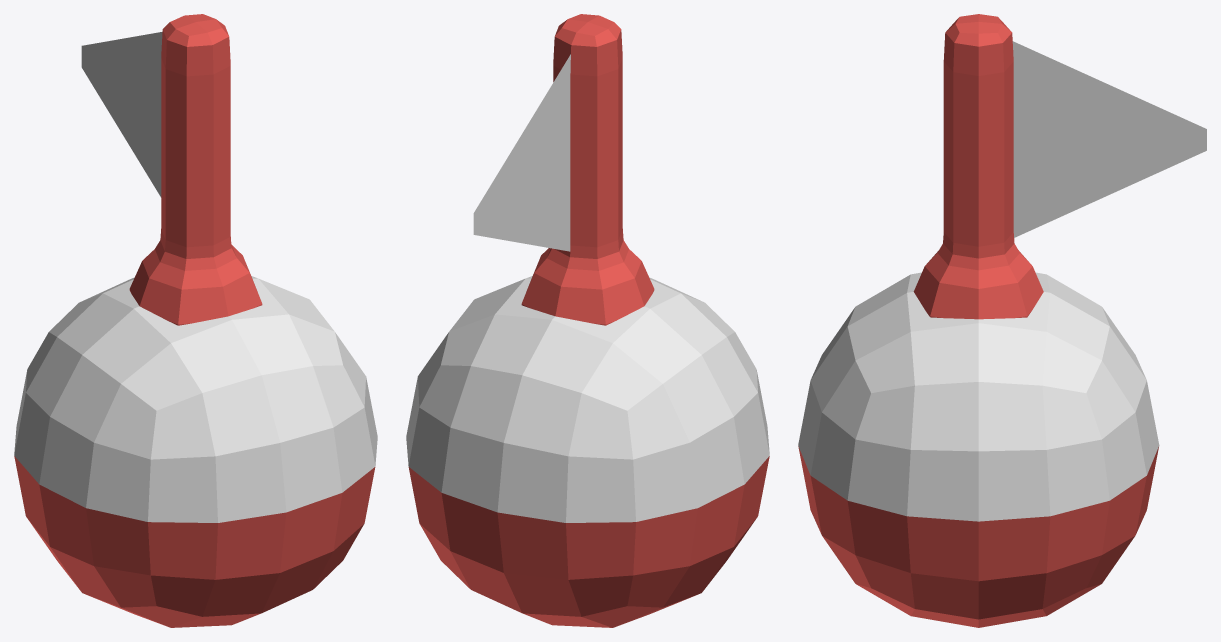
Rendered from thingy.fbx.
The picture shows the model from 3 angles, left to right: view 1: azimuth 30°, elevation 25°; view 2: azimuth 150°, elevation 25°; view 3: azimuth 270°, elevation 25°; orthographic projection.
Visible parts, largest first — view 1: Cube, Cube.001, Plane; view 2: Cube, Cube.001, Plane; view 3: Cube, Cube.001, Plane.
Boxes of the visible parts, x1,y1,x2,y2 form: Cube: (14, 276, 377, 627); Cube.001: (129, 14, 262, 325); Plane: (81, 31, 162, 197); Cube: (406, 276, 769, 627); Cube.001: (521, 14, 654, 325); Plane: (473, 54, 570, 251); Cube: (798, 272, 1159, 627); Cube.001: (913, 14, 1043, 319); Plane: (1012, 41, 1206, 237).
Size of the model in its own units: 168 by 301 by 190.
